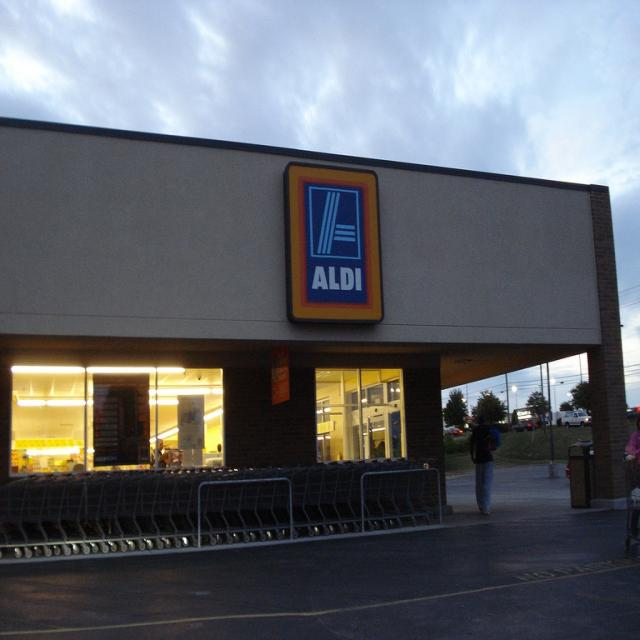aldi: (286, 164, 383, 320)
